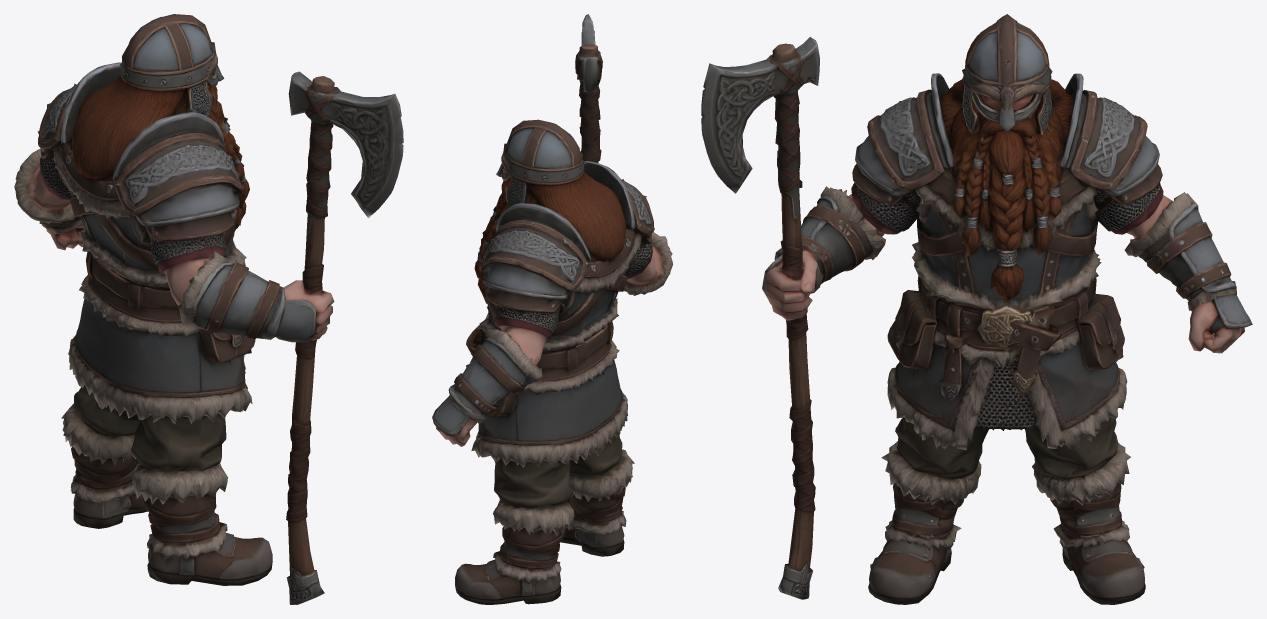
File: h31front-5.glb
3 renders of one model, left to right at view 1: azimuth 30°, elevation 25°; view 2: azimuth 150°, elevation 25°; view 3: azimuth 270°, elevation 25°, orthographic. The views are drawn at different scales.
Visible parts, largest first — view 1: tripo_node_c287f55c-0935-4c0d-8a10-0f79cc794f2f; view 2: tripo_node_c287f55c-0935-4c0d-8a10-0f79cc794f2f; view 3: tripo_node_c287f55c-0935-4c0d-8a10-0f79cc794f2f.
Boxes of the visible parts, x1,y1,x2,y2 form: tripo_node_c287f55c-0935-4c0d-8a10-0f79cc794f2f: [14, 14, 403, 604]; tripo_node_c287f55c-0935-4c0d-8a10-0f79cc794f2f: [432, 14, 672, 604]; tripo_node_c287f55c-0935-4c0d-8a10-0f79cc794f2f: [701, 14, 1252, 604].
Bounding box in the file's own units: 0.3578 × 1 × 0.886.
1 material, 1 textured.
